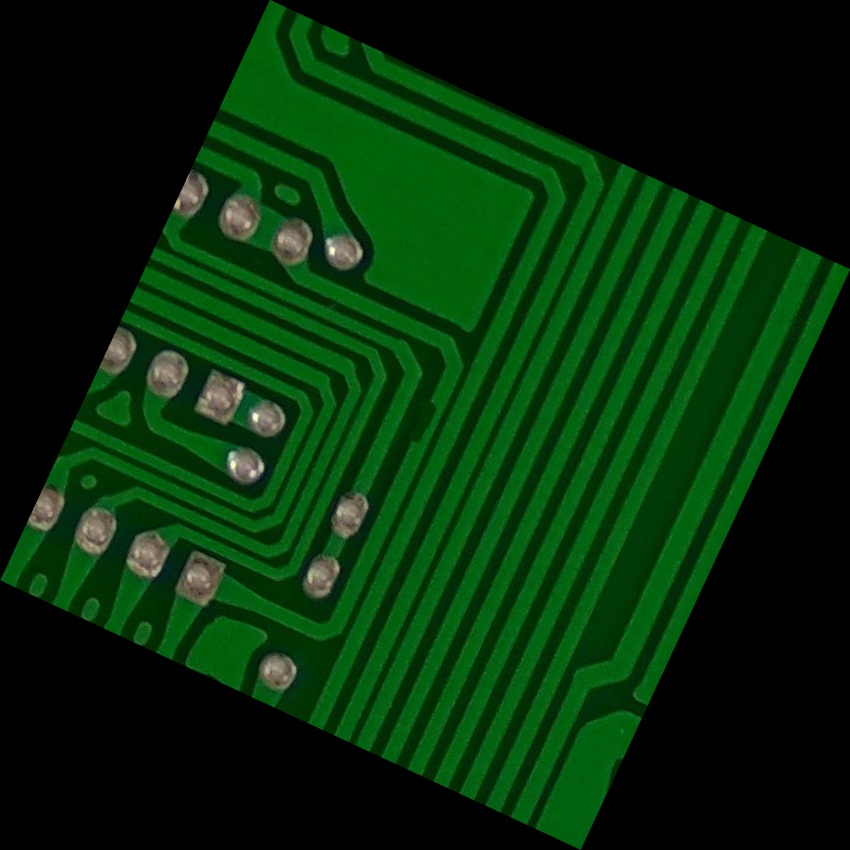mouse_bite: (394, 385, 455, 466)
